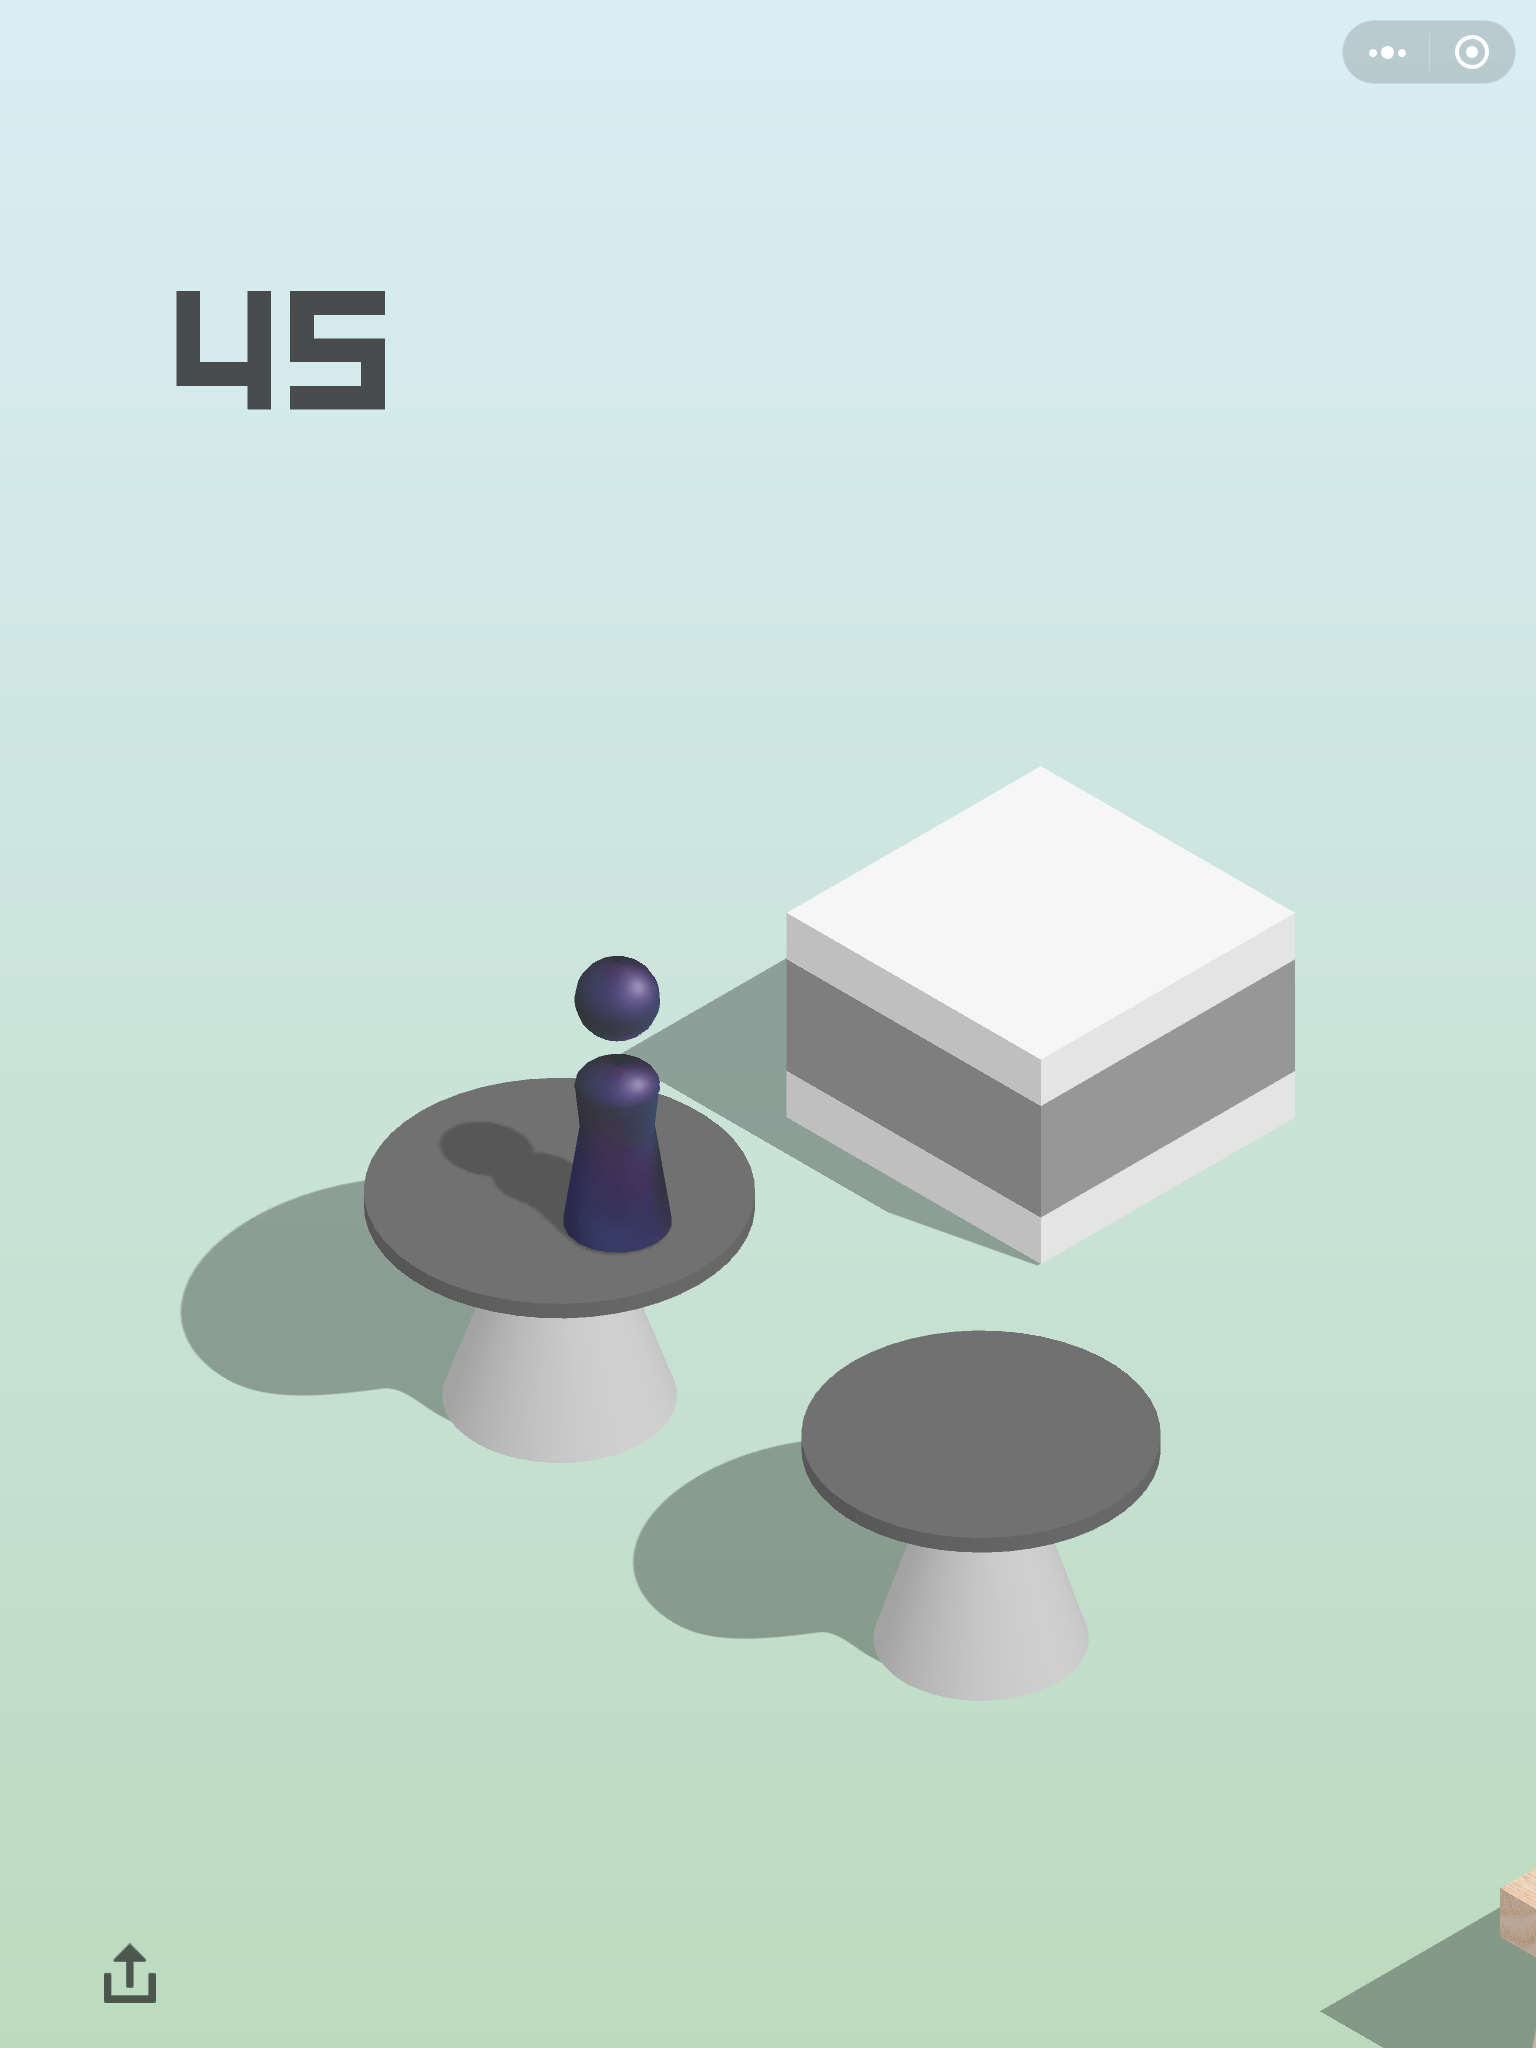c: (360, 1072, 762, 1467), (799, 1324, 1167, 1709)
f: (779, 758, 1304, 1271)
r: (558, 951, 678, 1259)
